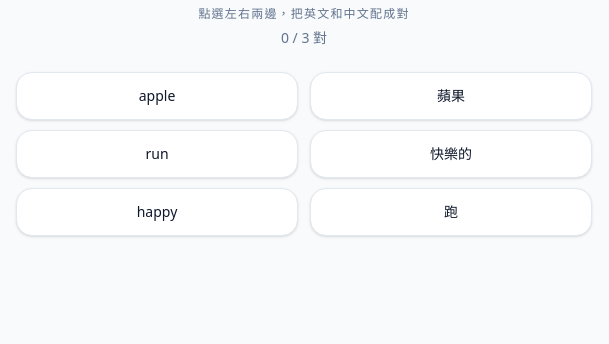
Test: MatchMode › locks a correct pair and completes with all-correct verdicts
Step 1. Click the button "apple" → (157, 96), box [16,72,298,120]
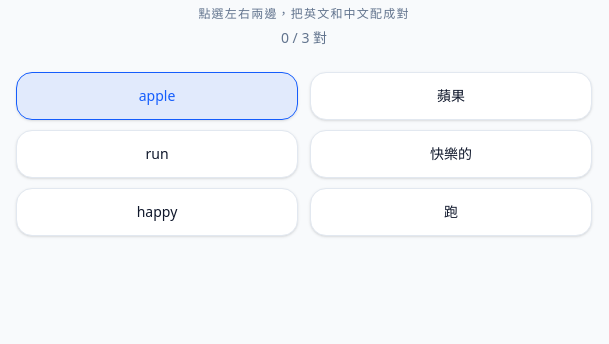
Step 2. Click the button "蘋果" → (451, 96), box [310,72,592,120]
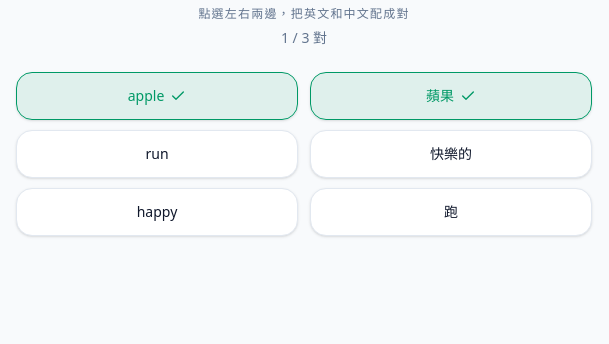
Now the button "蘋果" is disabled, box [310,72,592,120]
Step 3. Click the button "run" → (157, 154), box [16,130,298,178]
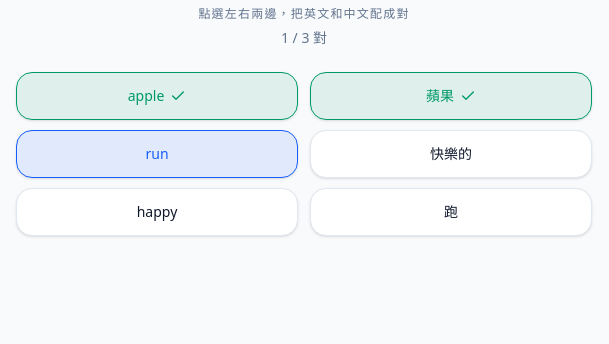
Step 4. Click the button "跑" → (451, 212), box [310,188,592,236]
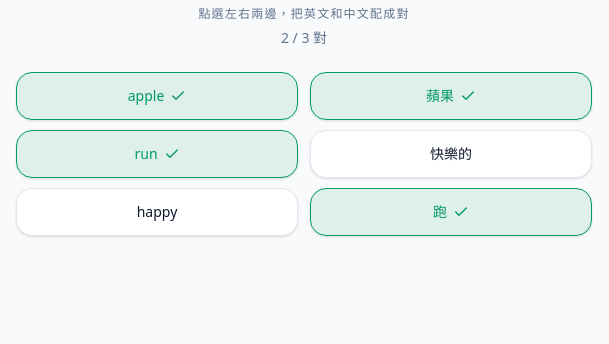
Step 5. Click the button "happy" → (157, 212), box [16,188,298,236]
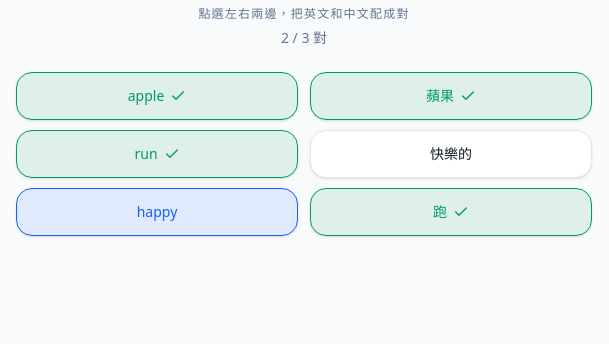
Step 6. Click the button "快樂的" → (451, 154), box [310,130,592,178]
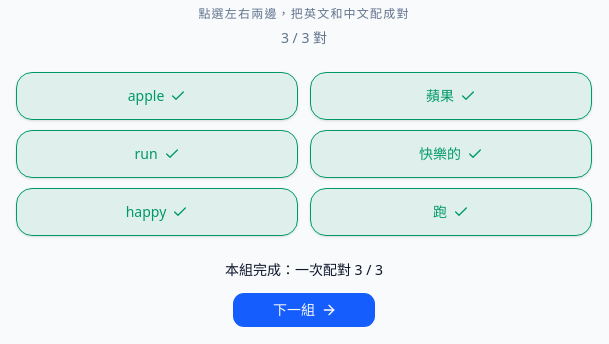
Now the text "本組完成：一次配對 3 / 3" is shown, box [225,260,383,279]
